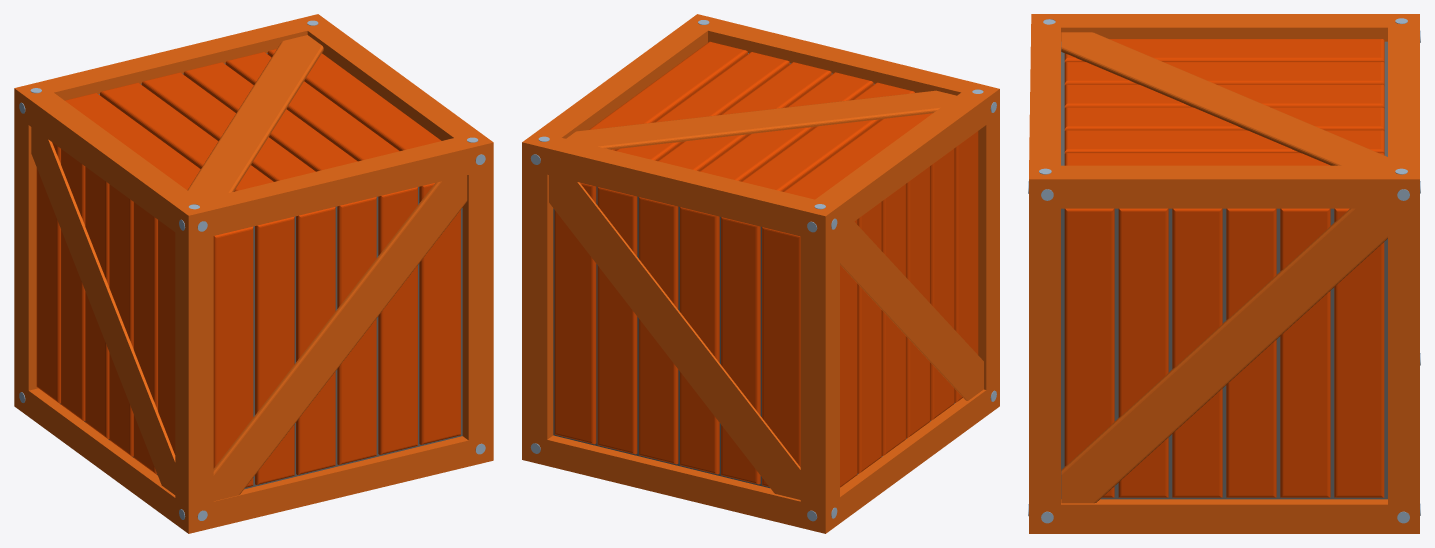
The model's file is 6x1 kutija final.fbx.
The picture shows the model from 3 angles, left to right: view 1: azimuth 30°, elevation 25°; view 2: azimuth 150°, elevation 25°; view 3: azimuth 270°, elevation 25°; orthographic projection. The views are drawn at different scales.
Visible parts, largest first — view 1: Cube.206; view 2: Cube.206; view 3: Cube.206.
Part boxes in pixels (left/top/right/bottom): Cube.206: left=14, top=14, right=493, bottom=533; Cube.206: left=522, top=14, right=999, bottom=533; Cube.206: left=1028, top=14, right=1420, bottom=533.
Bounding box in the file's own units: 201 × 200 × 201.
